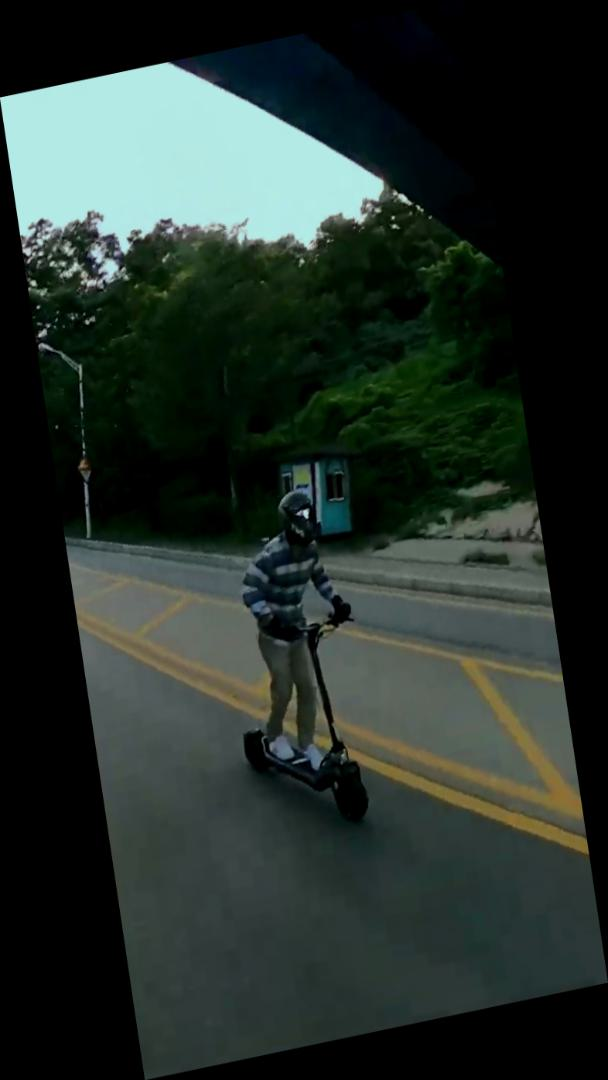helmet: (205, 483, 386, 847)
